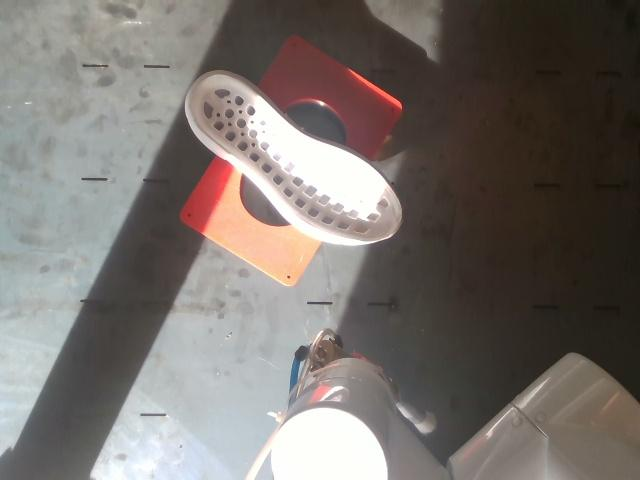shoes: (190, 75, 401, 241)
